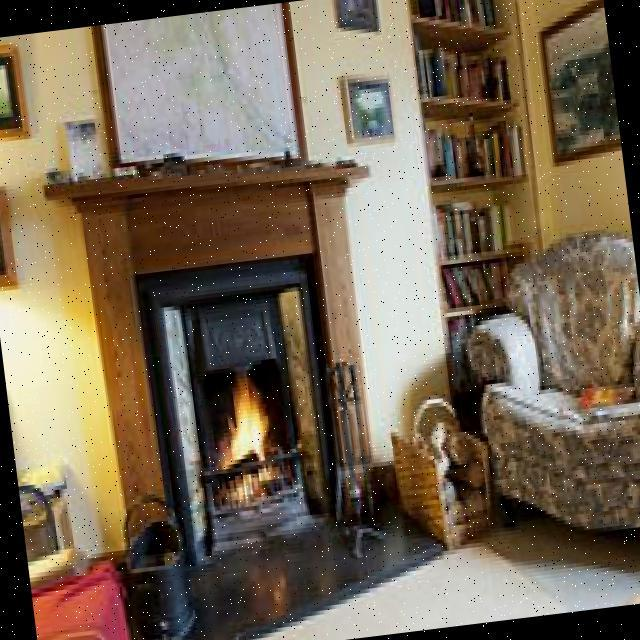Fire: (210, 349, 282, 477)
